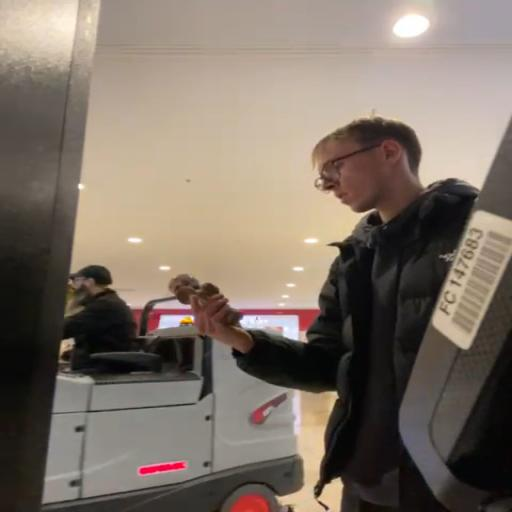kendama_ball: (168, 274, 200, 296)
